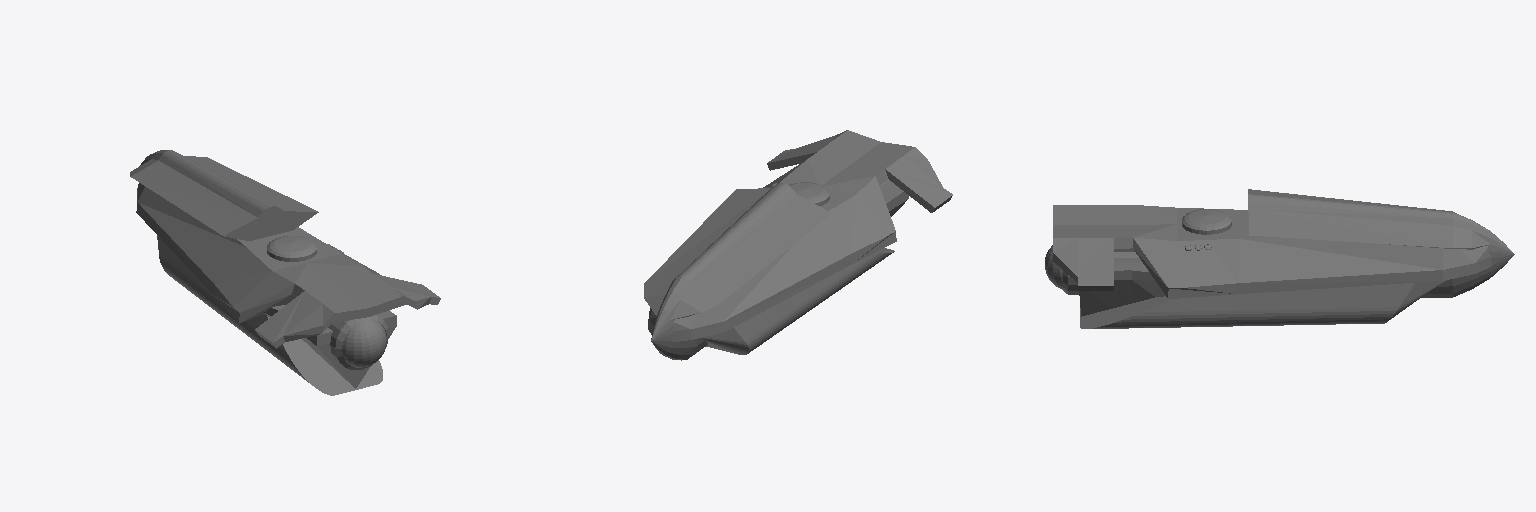
Rendered from Mothership.obj.
The picture shows the model from 3 angles: view 1: azimuth 30°, elevation 25°; view 2: azimuth 150°, elevation 25°; view 3: azimuth 270°, elevation 25°; orthographic projection.
Visible parts, largest first — view 1: polySurface12 Mothership1:spaceship2, Mothership1:spaceship2 polySurface20, Mothership1:spaceship2 polySurface21, Mothership1:spaceship2 polySurface16, Mothership1:spaceship2 polySurface14, Mothership1:spaceship2 polySurface13, Mothership1:spaceship2 polySurface15; view 2: polySurface12 Mothership1:spaceship2, Mothership1:spaceship2 polySurface20, Mothership1:spaceship2 polySurface21, Mothership1:spaceship2 polySurface13; view 3: polySurface12 Mothership1:spaceship2, Mothership1:spaceship2 polySurface20, Mothership1:spaceship2 polySurface21, Mothership1:spaceship2 polySurface14, Mothership1:spaceship2 polySurface13, Mothership1:spaceship2 polySurface15.
Boxes of the visible parts, x1=… form: polySurface12 Mothership1:spaceship2: x1=136, y1=183, x2=440, y2=348; Mothership1:spaceship2 polySurface20: x1=130, y1=150, x2=318, y2=240; Mothership1:spaceship2 polySurface21: x1=157, y1=235, x2=382, y2=395; Mothership1:spaceship2 polySurface16: x1=342, y1=319, x2=386, y2=367; Mothership1:spaceship2 polySurface14: x1=264, y1=305, x2=396, y2=388; Mothership1:spaceship2 polySurface13: x1=267, y1=236, x2=316, y2=261; Mothership1:spaceship2 polySurface15: x1=328, y1=315, x2=388, y2=369; polySurface12 Mothership1:spaceship2: x1=648, y1=130, x2=952, y2=341; Mothership1:spaceship2 polySurface20: x1=644, y1=183, x2=831, y2=360; Mothership1:spaceship2 polySurface21: x1=702, y1=248, x2=894, y2=354; Mothership1:spaceship2 polySurface13: x1=789, y1=182, x2=829, y2=205; polySurface12 Mothership1:spaceship2: x1=1053, y1=205, x2=1491, y2=298; Mothership1:spaceship2 polySurface20: x1=1248, y1=189, x2=1514, y2=297; Mothership1:spaceship2 polySurface21: x1=1080, y1=280, x2=1446, y2=328; Mothership1:spaceship2 polySurface14: x1=1079, y1=263, x2=1165, y2=316; Mothership1:spaceship2 polySurface13: x1=1182, y1=209, x2=1231, y2=234; Mothership1:spaceship2 polySurface15: x1=1063, y1=252, x2=1142, y2=294.
Size of the model in its own units: 5.31 by 3.68 by 12.86.